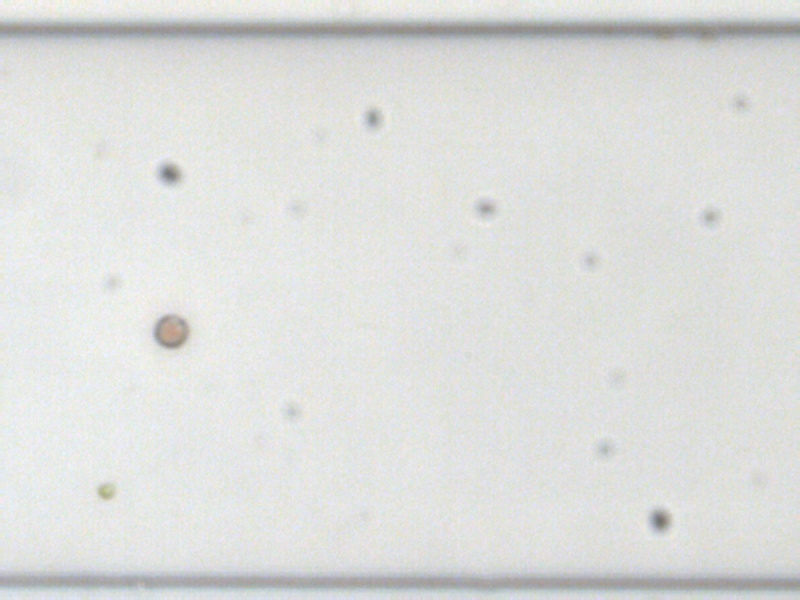Chlorella: (96, 480, 116, 499)
Porphyridium: (151, 312, 191, 348)
